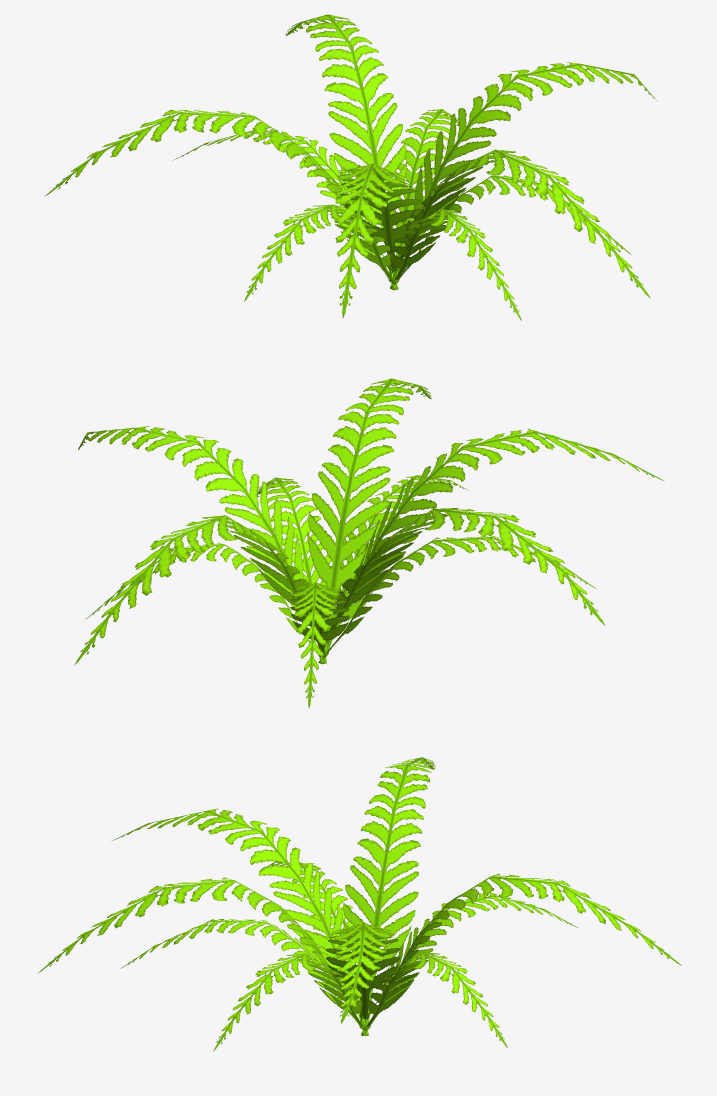
3 views of the same model, one above another, from view 1: azimuth 30°, elevation 25°; view 2: azimuth 150°, elevation 25°; view 3: azimuth 270°, elevation 25° (orthographic). The views are drawn at different scales.
Parts seen in each view (by area): view 1: Fern_0; view 2: Fern_0; view 3: Fern_0.
Boxes of the visible parts, x1,y1,x2,y2 form: Fern_0: (44,14,656,320); Fern_0: (74,378,663,708); Fern_0: (37,757,681,1051).
Bounding box in the file's own units: 8.75 × 3.04 × 9.78.
1 material, 1 textured.
